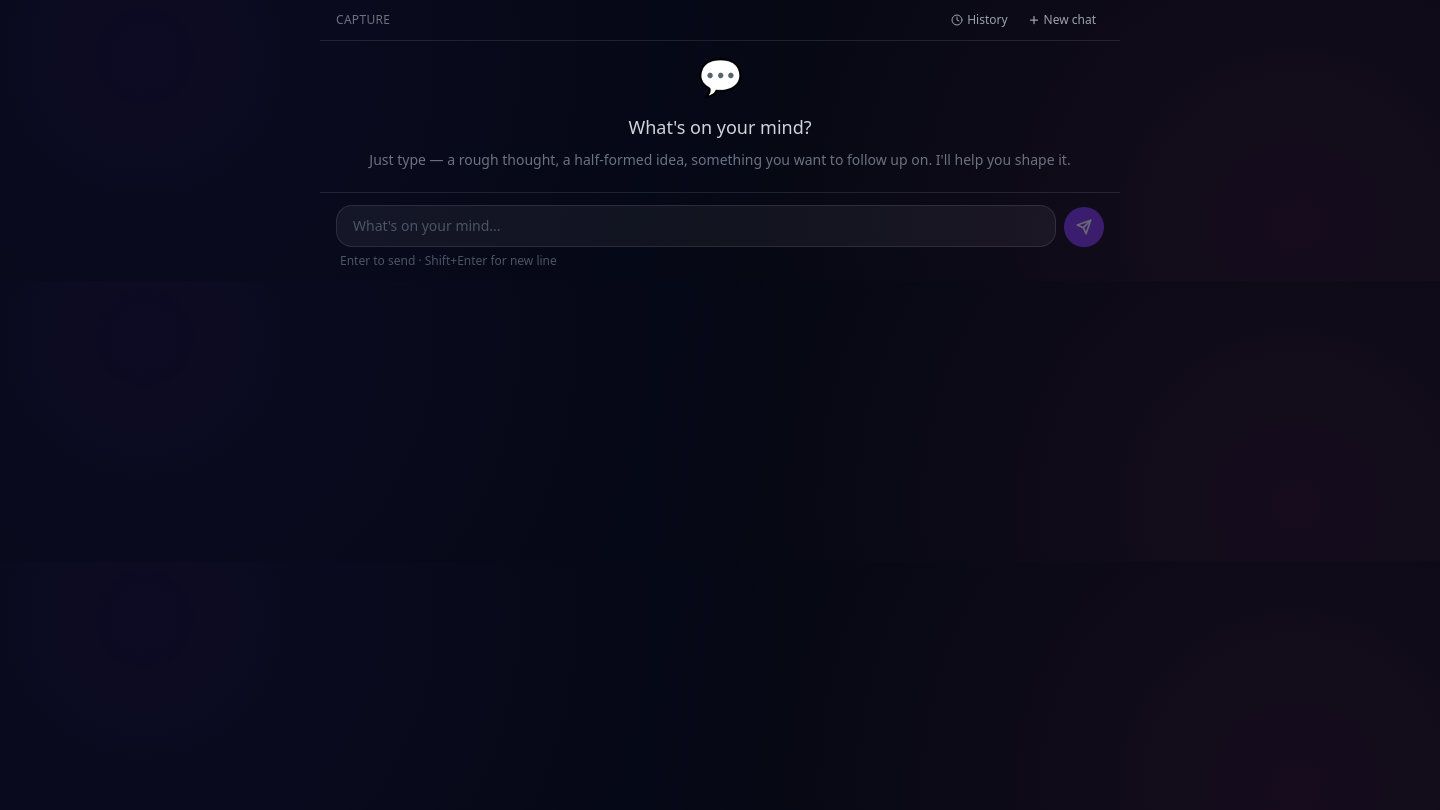
CaptureChat slash command execution › /idea [title] saves an idea and confirms it
// No autocomplete because the input has a space
Type "/idea My Idea" into the text box with placeholder "What's on your mind..." at (696, 226), box top-left (336, 205), bottom-right (1056, 247)
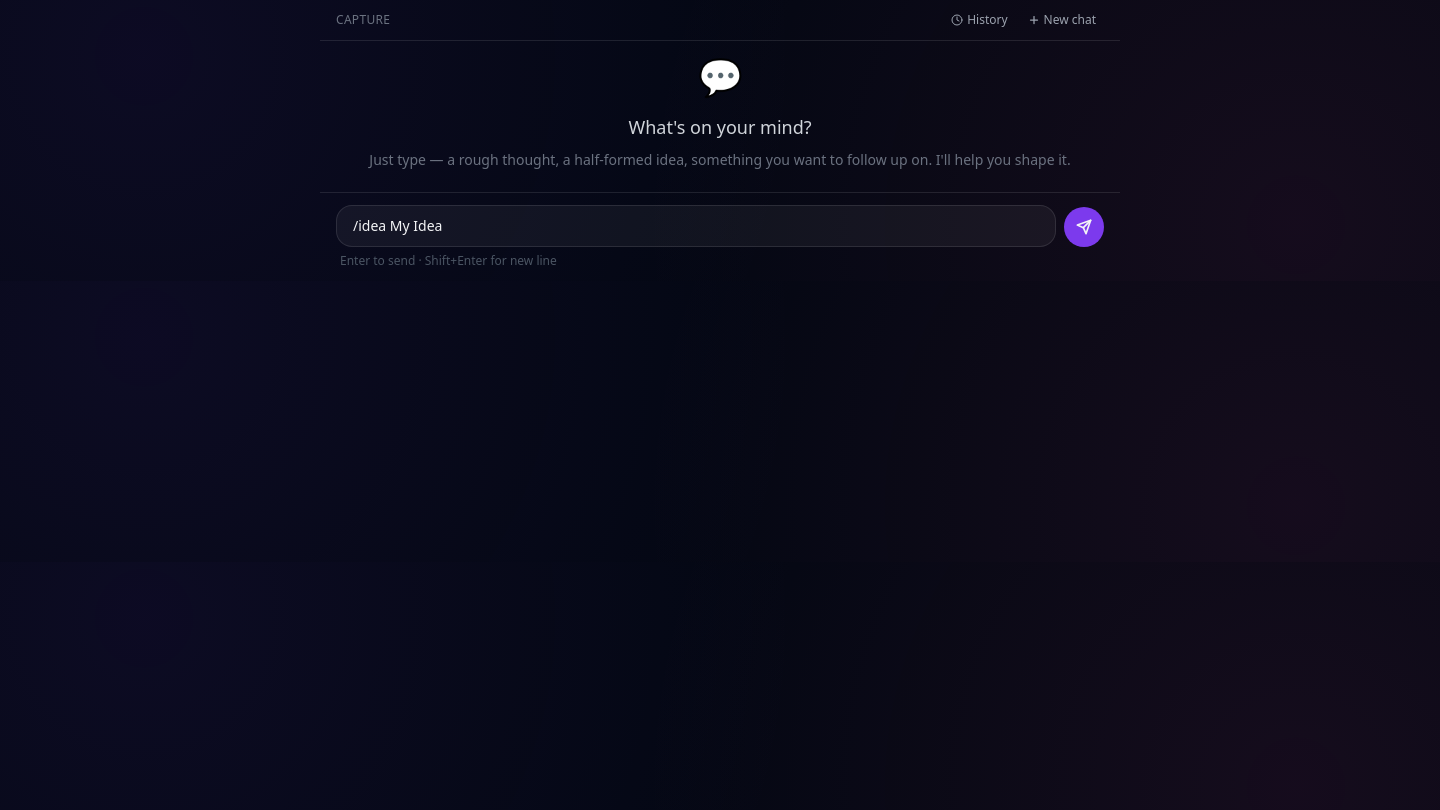
Press Enter in the text box with placeholder "What's on your mind...", box top-left (336, 205), bottom-right (1056, 247)
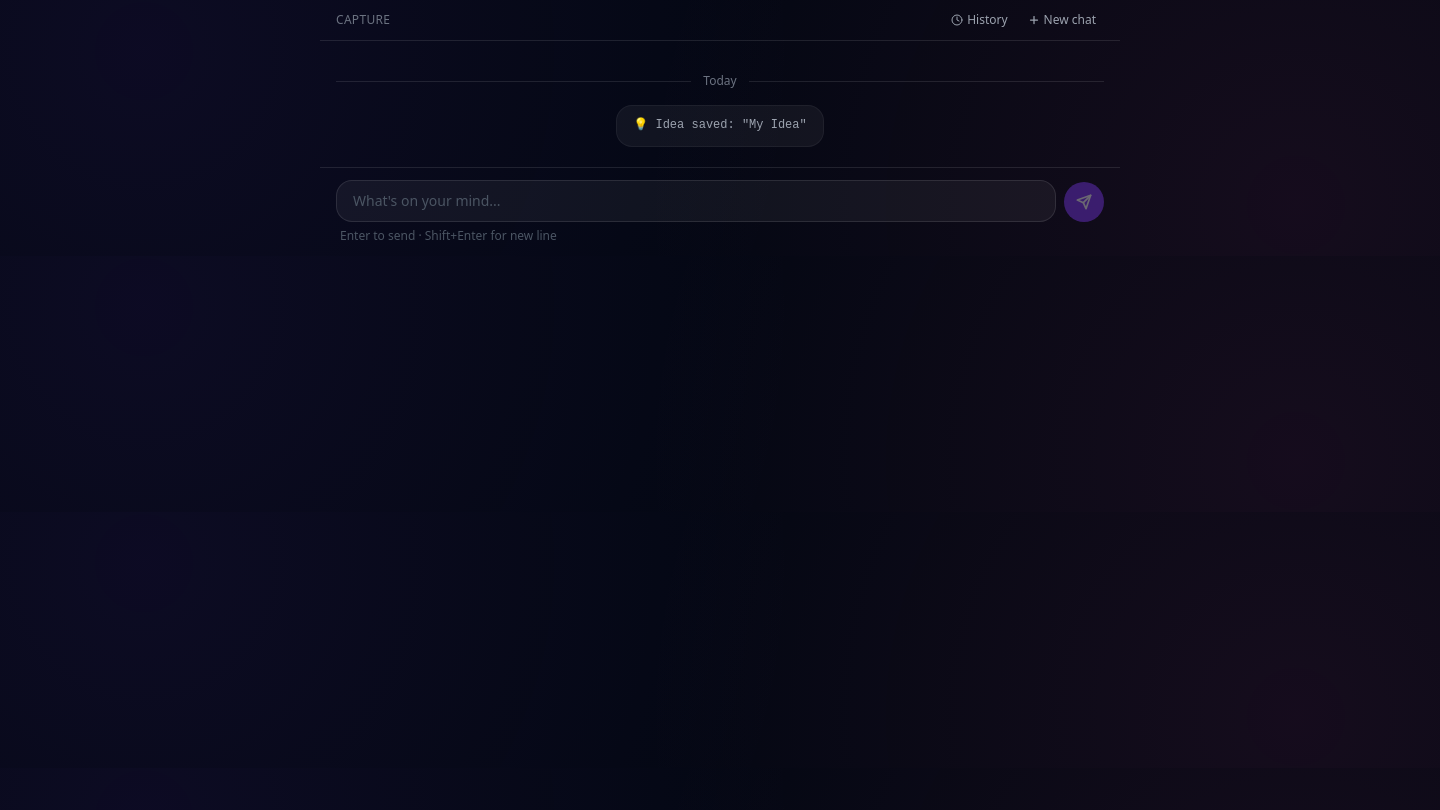
Now the text "💡 Idea saved: \"My Idea\"" is shown, box top-left (616, 105), bottom-right (824, 146)
